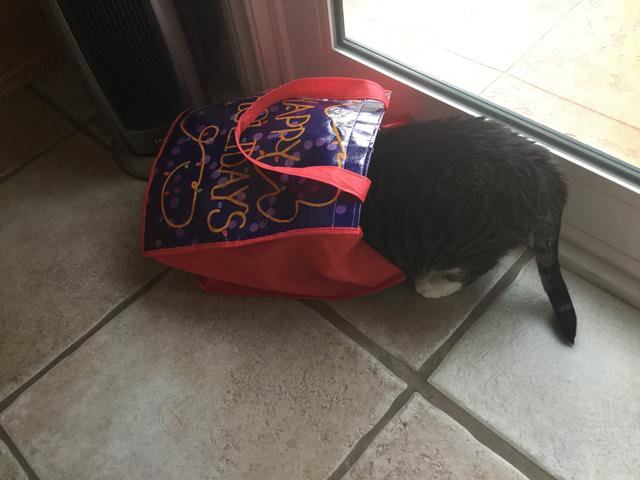playdoh: (364, 112, 578, 348)
